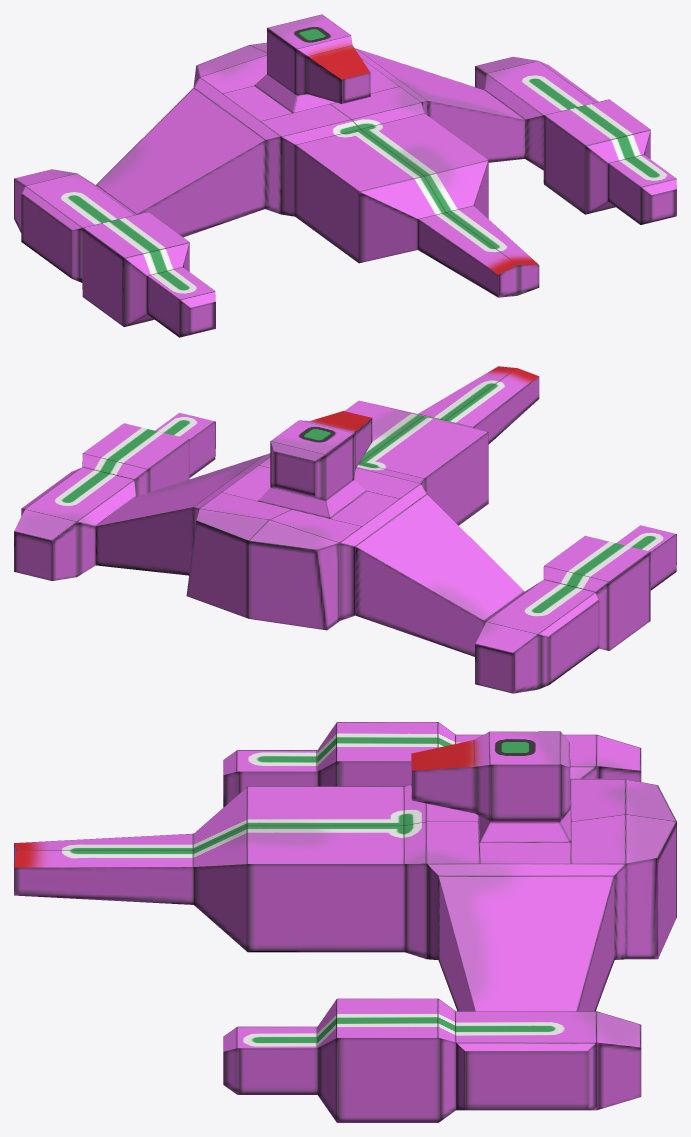
Rendered from enemyPen1Model.fbx.
The picture shows the model from 3 angles, top to bottom: view 1: azimuth 30°, elevation 25°; view 2: azimuth 150°, elevation 25°; view 3: azimuth 270°, elevation 25°; orthographic projection. The views are drawn at different scales.
Parts seen in each view (by area): view 1: Cube.001; view 2: Cube.001; view 3: Cube.001.
Boxes of the visible parts, x1=… form: Cube.001: x1=14, y1=14, x2=676, y2=337; Cube.001: x1=14, y1=366, x2=676, y2=693; Cube.001: x1=14, y1=722, x2=676, y2=1122.
Bounding box in the file's own units: 222 × 70.64 × 197.
Materials: 1 (1 with a texture image).
